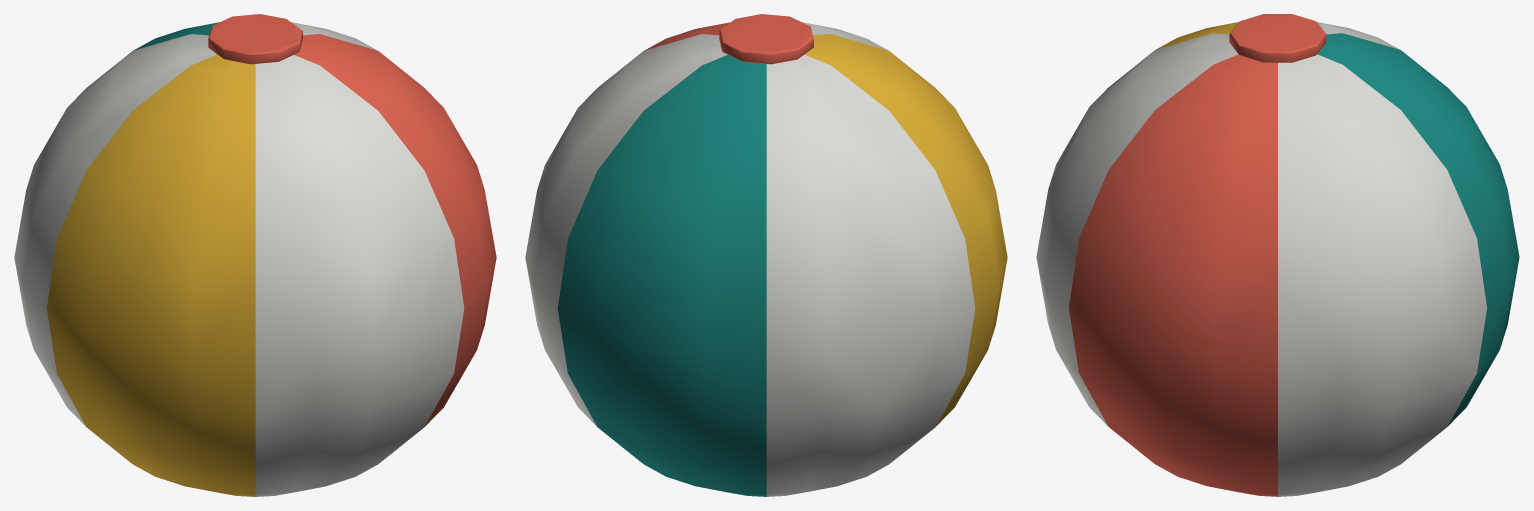
File: SM_Prop_BeachBall.fbx
3 renders of one model, left to right at view 1: azimuth 30°, elevation 25°; view 2: azimuth 150°, elevation 25°; view 3: azimuth 270°, elevation 25°, orthographic.
Visible parts, largest first — view 1: SM_Prop_BeachBall; view 2: SM_Prop_BeachBall; view 3: SM_Prop_BeachBall.
Boxes of the visible parts, box(x1,y1,x2,y2) form: SM_Prop_BeachBall: box(14, 14, 496, 496); SM_Prop_BeachBall: box(525, 14, 1007, 496); SM_Prop_BeachBall: box(1036, 14, 1519, 496).
Size of the model in its own units: 80.06 by 81.07 by 80.06.
